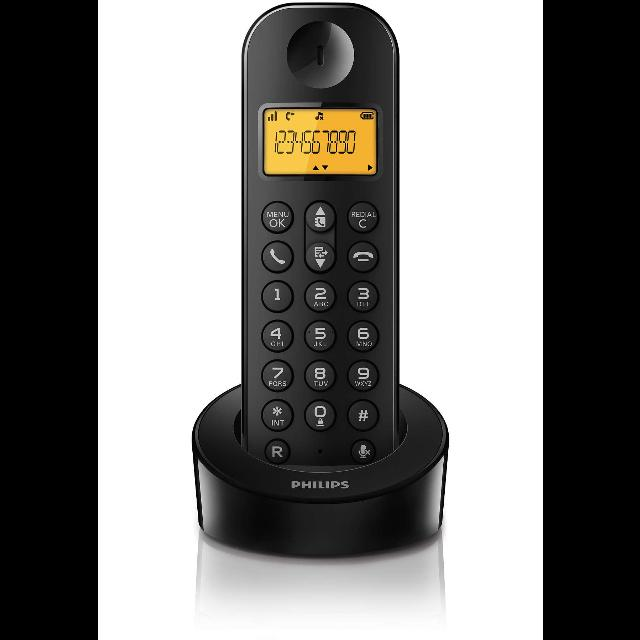Telephone-Set: (158, 2, 507, 570)
